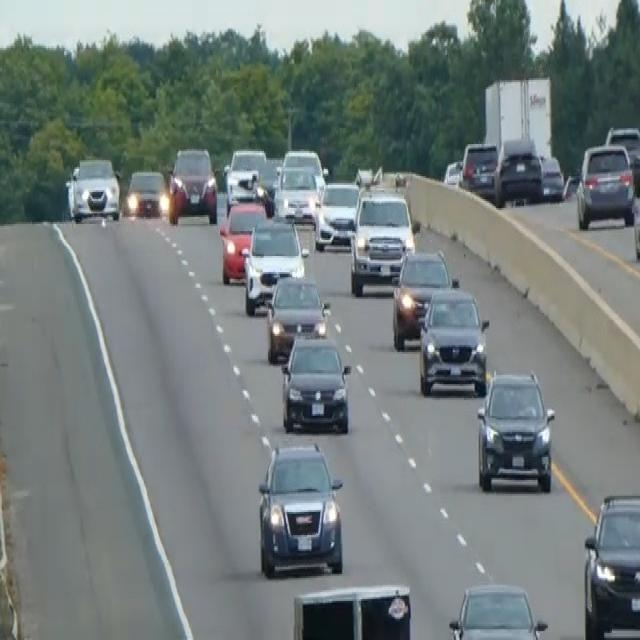car: (256, 439, 345, 578), (475, 367, 555, 492), (582, 491, 639, 638), (417, 284, 489, 396), (279, 329, 351, 434), (349, 189, 415, 295), (391, 246, 456, 350), (242, 213, 308, 313), (264, 272, 331, 363), (448, 580, 548, 638), (575, 140, 634, 230), (219, 199, 267, 285), (167, 144, 217, 224), (65, 155, 122, 222), (493, 135, 542, 206), (313, 178, 360, 250), (273, 164, 320, 224), (223, 146, 267, 208), (280, 146, 326, 194), (460, 139, 498, 197), (125, 167, 166, 219), (538, 151, 564, 201), (442, 156, 463, 186)
truck: (291, 582, 413, 636), (482, 73, 553, 160)
